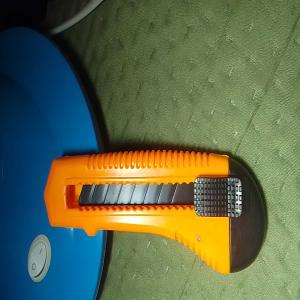estilete: (44, 150, 266, 274)
